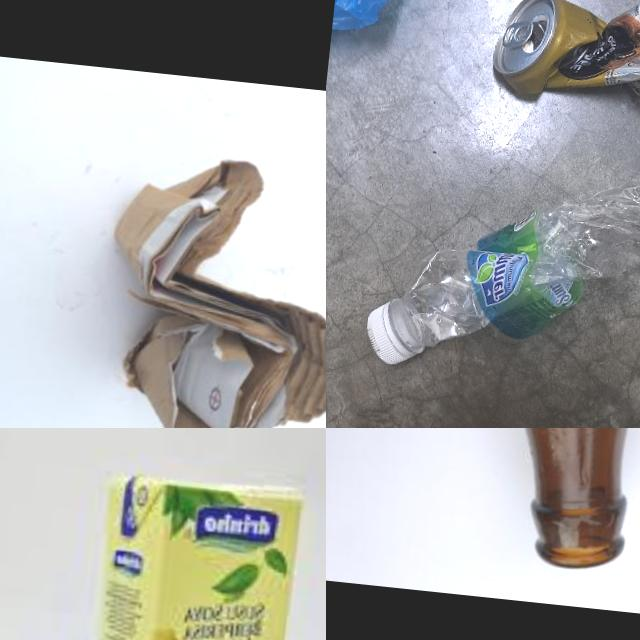aba de lata: (500, 9, 539, 51)
caixinha: (79, 461, 301, 640)
garrafa de vidro: (397, 428, 640, 575)
garrafa plástica: (397, 144, 640, 391)
lata: (483, 0, 640, 134)
papelão: (90, 145, 326, 428)
sacola plástica: (331, 0, 459, 42)
tampa plástica: (361, 292, 416, 368)
